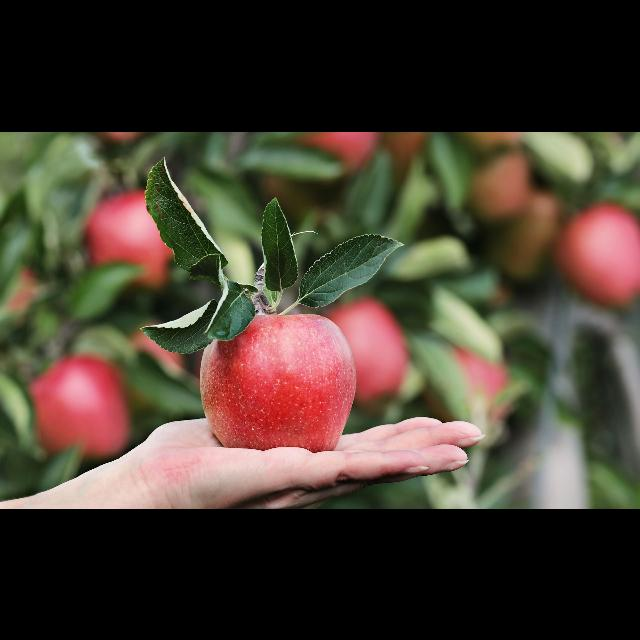Apel Segar: (190, 310, 380, 464)
